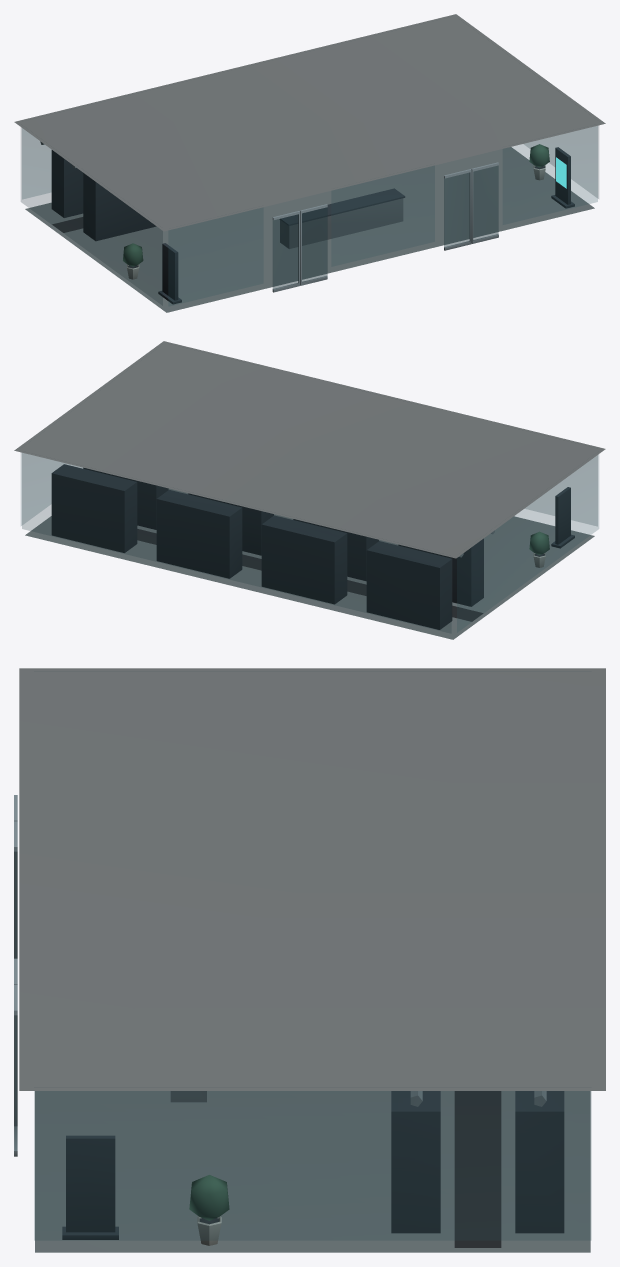
File: lobby-infra.lod2.glb
3 renders of one model, top to bottom at view 1: azimuth 30°, elevation 25°; view 2: azimuth 150°, elevation 25°; view 3: azimuth 270°, elevation 25°, orthographic. The views are drawn at different scales.
Visible parts, largest first — view 1: structure, door_0_l, door_1_l, door_0_r, door_1_r, foliage; view 2: structure; view 3: structure, foliage.
Boxes of the visible parts, x1,y1,x2,y2 form: structure: (14,14,605,312); door_0_l: (272,211,300,292); door_1_l: (444,169,471,250); door_0_r: (300,204,327,285); door_1_r: (471,162,498,243); foliage: (123,144,549,266); structure: (14,341,605,639); structure: (19,668,605,1252); foliage: (189,1175,229,1220).
Size of the model in its own units: 19.36 by 3.62 by 11.47.
